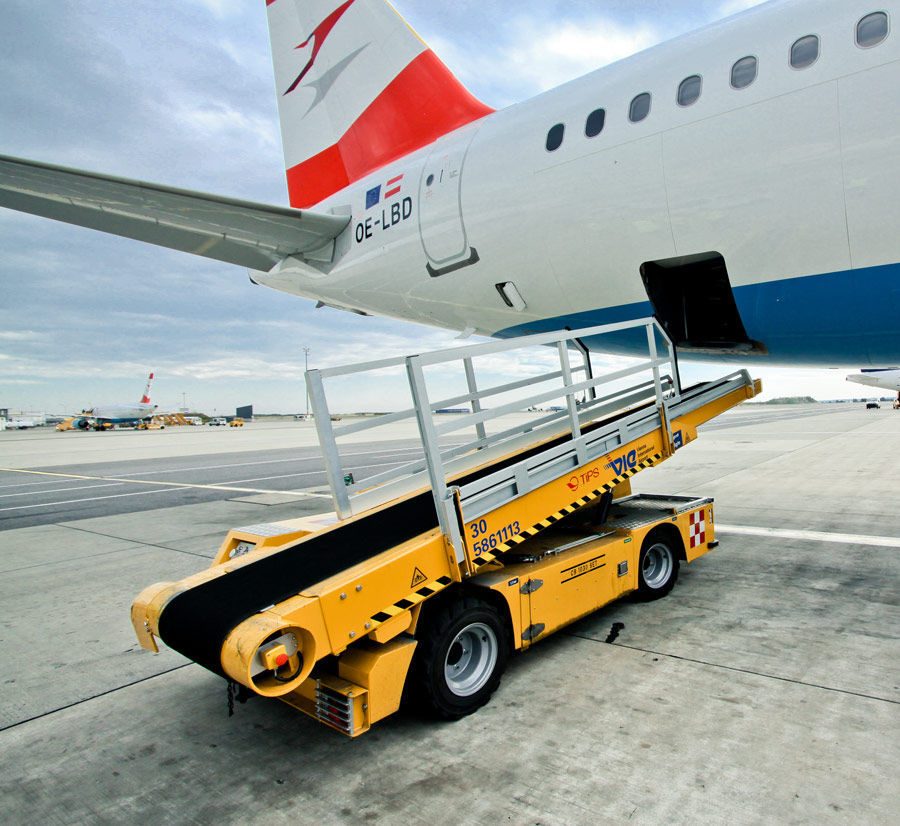baggagetruck: (117, 301, 765, 733)
